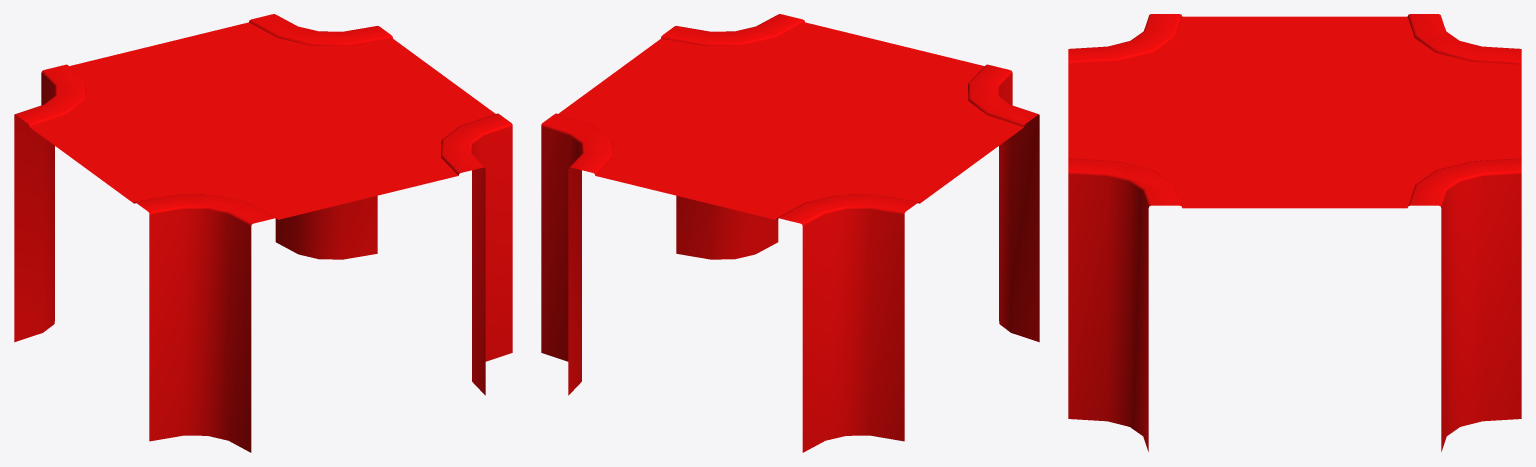
File: part_3_props_mesh_01.fbx
3 views of the same model, side by side, from view 1: azimuth 30°, elevation 25°; view 2: azimuth 150°, elevation 25°; view 3: azimuth 270°, elevation 25° (orthographic). The views are drawn at different scales.
Visible parts, largest first — view 1: part_3_props_mesh_01; view 2: part_3_props_mesh_01; view 3: part_3_props_mesh_01.
Boxes of the visible parts, x1,y1,x2,y2 form: part_3_props_mesh_01: (14,14,512,452); part_3_props_mesh_01: (541,14,1039,452); part_3_props_mesh_01: (1068,14,1521,451).
Bounding box in the file's own units: 8.15 × 4.9 × 8.15.
